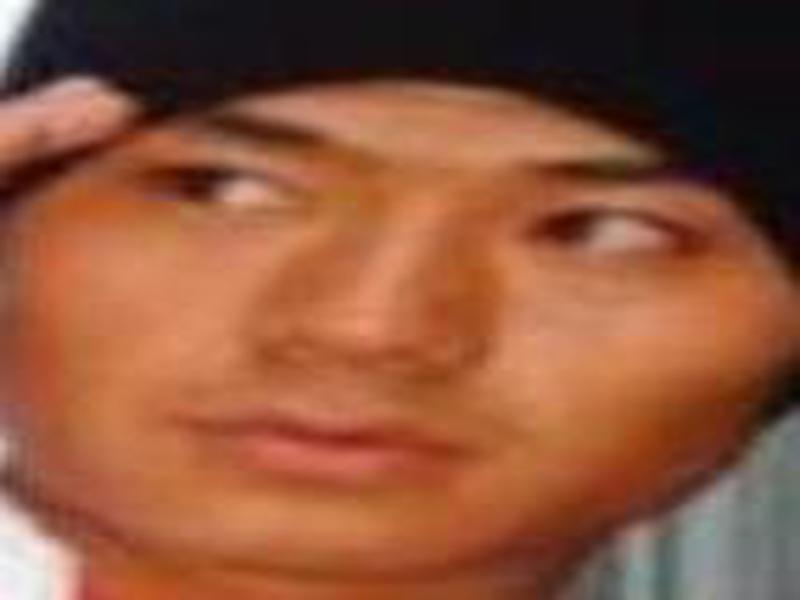without_mask: (6, 78, 793, 574)
